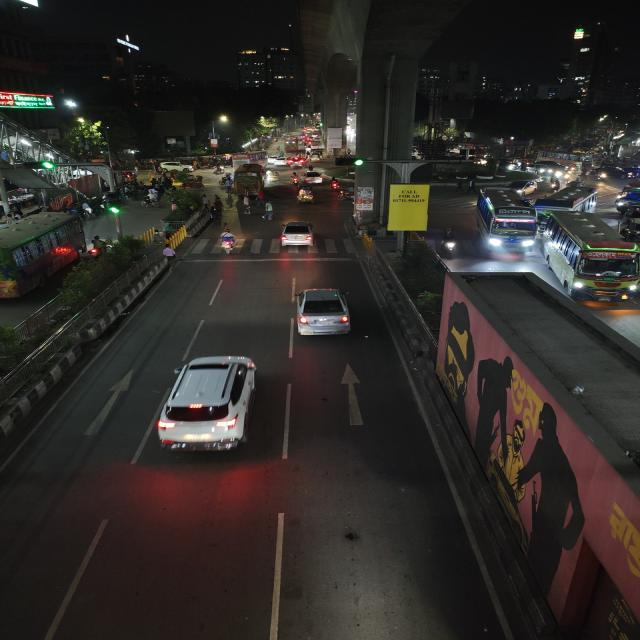bus: (542, 212, 640, 305), (0, 213, 86, 302), (472, 188, 541, 260), (231, 152, 270, 166)
car: (146, 350, 266, 462), (289, 286, 356, 342), (534, 187, 601, 213), (278, 219, 318, 249), (507, 178, 539, 197), (301, 169, 326, 184), (528, 162, 552, 176), (286, 157, 306, 167), (272, 157, 288, 166)
cng: (294, 184, 318, 204)
motorcycle: (438, 226, 463, 260), (215, 228, 240, 256), (88, 234, 109, 260), (141, 194, 164, 208), (288, 170, 301, 187), (329, 177, 342, 193)
pedestrian: (160, 243, 178, 268), (260, 200, 276, 222), (208, 198, 223, 219), (168, 198, 182, 215), (241, 197, 253, 215)
rickshaw: (234, 164, 263, 197), (175, 173, 208, 191), (262, 168, 281, 186)
